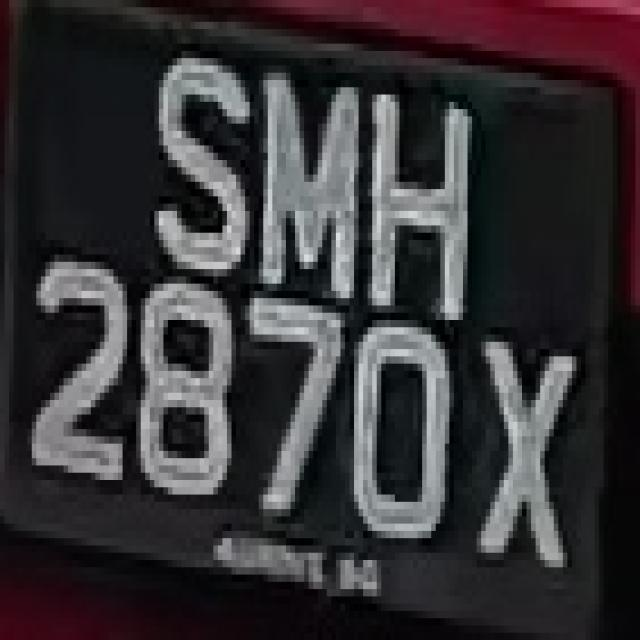0: (336, 313, 458, 560)
2: (27, 211, 132, 509)
7: (254, 269, 345, 516)
8: (123, 262, 250, 509)
H: (368, 58, 481, 342)
M: (250, 51, 368, 334)
S: (136, 22, 254, 276)
X: (463, 291, 572, 604)
